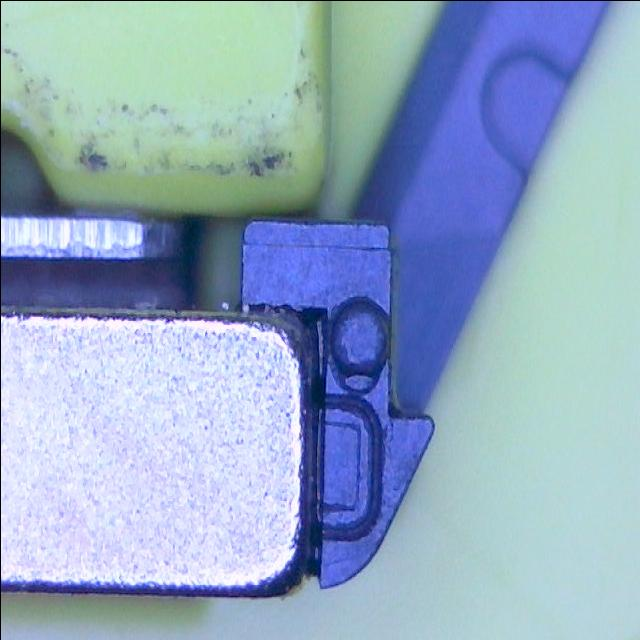lacking: (312, 391, 384, 544)
